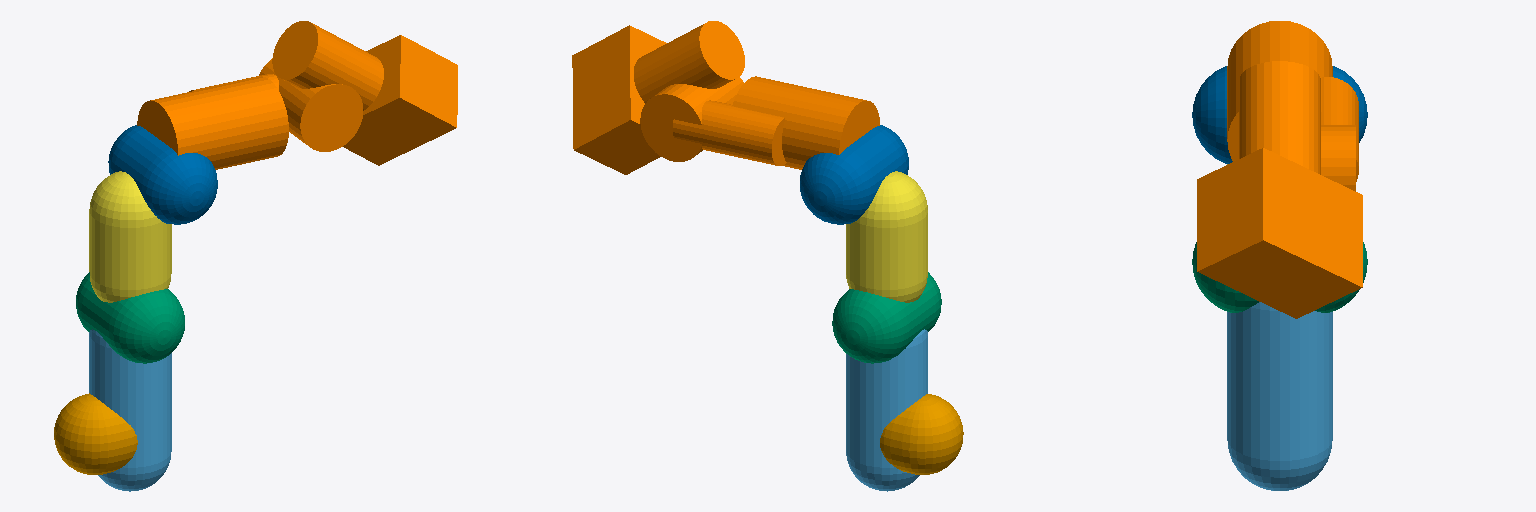
URDF robot description (fr3):
<?xml version="1.0" ?>
<!-- =================================================================================== -->
<!-- |    This document was autogenerated by xacro from fr3.urdf.xacro                 | -->
<!-- |    EDITING THIS FILE BY HAND IS NOT RECOMMENDED                                 | -->
<!-- =================================================================================== -->
<robot name="fr3">
  <link name="fr3_link0">
    <visual>
      <origin rpy="0 1.5707963267948966 0" xyz="-0.075 0 0.06"/>
      <geometry>
        <cylinder length="0.03" radius="0.09"/>
      </geometry>
    </visual>
    <visual>
      <origin xyz="-0.06 0 0.06"/>
      <geometry>
        <sphere radius="0.09"/>
      </geometry>
    </visual>
    <visual>
      <origin xyz="-0.09 0 0.06"/>
      <geometry>
        <sphere radius="0.09"/>
      </geometry>
    </visual>

    <collision>
      <origin rpy="0 1.5707963267948966 0" xyz="-0.075 0 0.06"/>
      <geometry>
        <cylinder length="0.03" radius="0.09"/>
      </geometry>
    </collision>
    <collision>
      <origin xyz="-0.06 0 0.06"/>
      <geometry>
        <sphere radius="0.09"/>
      </geometry>
    </collision>
    <collision>
      <origin xyz="-0.09 0 0.06"/>
      <geometry>
        <sphere radius="0.09"/>
      </geometry>
    </collision>

    <inertial>
      <origin rpy="0 0 0" xyz="-0.041018 -0.00014 0.049974"/>
      <mass value="0.629769"/>
      <inertia ixx="0.00315" ixy="8.2904e-07" ixz="0.00015" iyy="0.00388" iyz="8.2299e-06" izz="0.004285"/>
    </inertial>
  </link>
  
  <link name="fr3_link1">
    <visual>
      <origin rpy="0 0 0" xyz="0 0 -0.1915"/>
      <geometry>
        <cylinder length="0.283" radius="0.09"/>
      </geometry>
    </visual>
    <visual>
      <origin xyz="0 0 -0.05000000000000002"/>
      <geometry>
        <sphere radius="0.09"/>
      </geometry>
    </visual>
    <visual>
      <origin xyz="0 0 -0.33299999999999996"/>
      <geometry>
        <sphere radius="0.09"/>
      </geometry>
    </visual>

    <collision>
      <origin rpy="0 0 0" xyz="0 0 -0.1915"/>
      <geometry>
        <cylinder length="0.283" radius="0.09"/>
      </geometry>
    </collision>
    <collision>
      <origin xyz="0 0 -0.05000000000000002"/>
      <geometry>
        <sphere radius="0.09"/>
      </geometry>
    </collision>
    <collision>
      <origin xyz="0 0 -0.33299999999999996"/>
      <geometry>
        <sphere radius="0.09"/>
      </geometry>
    </collision>

    <inertial>
      <origin rpy="0 0 0" xyz="0.003875 0.002081 -0.04762"/>
      <mass value="4.970684"/>
      <inertia ixx="0.70337" ixy="-0.000139" ixz="0.006772" iyy="0.70661" iyz="0.019169" izz="0.009117"/>
    </inertial>
  </link>

  <joint name="fr3_joint1" type="revolute">
    <origin rpy="0 0 0" xyz="0 0 0.333"/>
    <parent link="fr3_link0"/>
    <child link="fr3_link1"/>
    <axis xyz="0 0 1"/>
    <limit effort="87.0" lower="-2.3093" upper="2.3093" velocity="2.0"/>
    <safety_controller k_position="100.0" k_velocity="40.0" soft_lower_limit="-2.3093" soft_upper_limit="2.3093"/>
    <dynamics D="1" K="7000" damping="0.003" friction="0.0" mu_coulomb="0" mu_viscous="16"/>
  </joint>

  <link name="fr3_link2">
    <visual>
      <origin rpy="0 0 0" xyz="0 0 0"/>
      <geometry>
        <cylinder length="0.12" radius="0.09"/>
      </geometry>
    </visual>
    <visual>
      <origin xyz="0 0 0.06"/>
      <geometry>
        <sphere radius="0.09"/>
      </geometry>
    </visual>
    <visual>
      <origin xyz="0 0 -0.06"/>
      <geometry>
        <sphere radius="0.09"/>
      </geometry>
    </visual>

    <collision>
      <origin rpy="0 0 0" xyz="0 0 0"/>
      <geometry>
        <cylinder length="0.12" radius="0.09"/>
      </geometry>
    </collision>
    <collision>
      <origin xyz="0 0 0.06"/>
      <geometry>
        <sphere radius="0.09"/>
      </geometry>
    </collision>
    <collision>
      <origin xyz="0 0 -0.06"/>
      <geometry>
        <sphere radius="0.09"/>
      </geometry>
    </collision>

    <inertial>
      <origin rpy="0 0 0" xyz="-0.003141 -0.02872  0.003495"/>
      <mass value="0.646926"/>
      <inertia ixx="0.007962" ixy="-0.003925" ixz="0.010254" iyy="0.02811" iyz="0.000704" izz="0.025995"/>
    </inertial>
  </link>

  <joint name="fr3_joint2" type="revolute">
    <origin rpy="-1.5707963267948966 0 0" xyz="0 0 0"/>
    <parent link="fr3_link1"/>
    <child link="fr3_link2"/>
    <axis xyz="0 0 1"/>
    <limit effort="87.0" lower="-1.5133" upper="1.5133" velocity="1.0"/>
    <safety_controller k_position="100.0" k_velocity="40.0" soft_lower_limit="-1.5133" soft_upper_limit="1.5133"/>
    <dynamics D="1" K="7000" damping="0.003" friction="0.0" mu_coulomb="0" mu_viscous="16"/>
  </joint>

  <link name="fr3_link3">
    <visual>
      <origin rpy="0 0 0" xyz="0 0 -0.145"/>
      <geometry>
        <cylinder length="0.15" radius="0.09"/>
      </geometry>
    </visual>
    <visual>
      <origin xyz="0 0 -0.06999999999999999"/>
      <geometry>
        <sphere radius="0.09"/>
      </geometry>
    </visual>
    <visual>
      <origin xyz="0 0 -0.21999999999999997"/>
      <geometry>
        <sphere radius="0.09"/>
      </geometry>
    </visual>

    <collision>
      <origin rpy="0 0 0" xyz="0 0 -0.145"/>
      <geometry>
        <cylinder length="0.15" radius="0.09"/>
      </geometry>
    </collision>
    <collision>
      <origin xyz="0 0 -0.06999999999999999"/>
      <geometry>
        <sphere radius="0.09"/>
      </geometry>
    </collision>
    <collision>
      <origin xyz="0 0 -0.21999999999999997"/>
      <geometry>
        <sphere radius="0.09"/>
      </geometry>
    </collision>

    <inertial>
      <origin rpy="0 0 0" xyz="2.7518e-02 3.9252e-02 -6.6502e-02"/>
      <mass value="3.228604"/>
      <inertia ixx="0.037242" ixy="-0.004761" ixz="-0.011396" iyy="0.036155" iyz="-0.012805" izz="0.01083"/>
    </inertial>
  </link>
  
  <joint name="fr3_joint3" type="revolute">
    <origin rpy="1.5707963267948966 0 0" xyz="0 -0.316 0"/>
    <parent link="fr3_link2"/>
    <child link="fr3_link3"/>
    <axis xyz="0 0 1"/>
    <limit effort="87.0" lower="-2.4937" upper="2.4937" velocity="1.5"/>
    <safety_controller k_position="100.0" k_velocity="40.0" soft_lower_limit="-2.4937" soft_upper_limit="2.4937"/>
    <dynamics D="1" K="7000" damping="0.003" friction="0.0" mu_coulomb="0" mu_viscous="16"/>
  </joint>

  <link name="fr3_link4">
    <visual>
      <origin rpy="0 0 0" xyz="0 0 0"/>
      <geometry>
        <cylinder length="0.12" radius="0.09"/>
      </geometry>
    </visual>
    <visual>
      <origin xyz="0 0 0.06"/>
      <geometry>
        <sphere radius="0.09"/>
      </geometry>
    </visual>
    <visual>
      <origin xyz="0 0 -0.06"/>
      <geometry>
        <sphere radius="0.09"/>
      </geometry>
    </visual>

    <collision>
      <origin rpy="0 0 0" xyz="0 0 0"/>
      <geometry>
        <cylinder length="0.12" radius="0.09"/>
      </geometry>
    </collision>
    <collision>
      <origin xyz="0 0 0.06"/>
      <geometry>
        <sphere radius="0.09"/>
      </geometry>
    </collision>
    <collision>
      <origin xyz="0 0 -0.06"/>
      <geometry>
        <sphere radius="0.09"/>
      </geometry>
    </collision>

    <inertial>
      <origin rpy="0 0 0" xyz="-5.317e-02 1.04419e-01 2.7454e-02"/>
      <mass value="3.587895"/>
      <inertia ixx="0.025853" ixy="0.007796" ixz="-0.001332" iyy="0.019552" iyz="0.008641" izz="0.028323"/>
    </inertial>
  </link>
  
  <joint name="fr3_joint4" type="revolute">
    <origin rpy="1.5707963267948966 0 0" xyz="0.0825 0 0"/>
    <parent link="fr3_link3"/>
    <child link="fr3_link4"/>
    <axis xyz="0 0 1"/>
    <limit effort="87.0" lower="-2.7478" upper="-0.4461" velocity="1.25"/>
    <safety_controller k_position="100.0" k_velocity="40.0" soft_lower_limit="-2.7478" soft_upper_limit="-0.4461"/>
    <dynamics D="1" K="7000" damping="0.003" friction="0.0" mu_coulomb="0" mu_viscous="16"/>
  </joint>

  <link name="fr3_link5">
    <visual>
      <origin rpy="0 0 0" xyz="0 0 -0.26"/>
      <geometry>
        <cylinder length="0.28" radius="0.09"/>
      </geometry>
      <material name="darkorange">
        <color rgba="1. 0.549 0. 0.8"/>
      </material>
    </visual>

    <visual>
      <origin rpy="0 0 0.08" xyz="0 0.08 -0.13"/>
      <geometry>
        <cylinder length="0.25" radius="0.055"/>
      </geometry>
      <material name="darkorange">
        <color rgba="1. 0.549 0. 0.8"/>
      </material>
    </visual>

    <collision>
      <origin rpy="0 0 0" xyz="0 0 -0.26"/>
      <geometry>
        <cylinder length="0.28" radius="0.09"/>
      </geometry>
    </collision>
    
    <collision>
      <origin rpy="0 0 0.08" xyz="0 0.08 -0.13"/>
      <geometry>
        <cylinder length="0.25" radius="0.055"/>
      </geometry>
    </collision>

    <inertial>
      <origin rpy="0 0 0" xyz="-1.1953e-02 4.1065e-02 -3.8437e-02"/>
      <mass value="1.225946"/>
      <inertia ixx="0.035549" ixy="-0.002117" ixz="-0.004037" iyy="0.029474" iyz="0.000229" izz="0.008627"/>
    </inertial>
  </link>

  <joint name="fr3_joint5" type="revolute">
    <origin rpy="-1.5707963267948966 0 0" xyz="-0.0825 0.384 0"/>
    <parent link="fr3_link4"/>
    <child link="fr3_link5"/>
    <axis xyz="0 0 1"/>
    <limit effort="12.0" lower="-2.48" upper="2.48" velocity="3.0"/>
    <safety_controller k_position="100.0" k_velocity="40.0" soft_lower_limit="-2.48" soft_upper_limit="2.48"/>
    <dynamics D="1" K="7000" damping="0.003" friction="0.0" mu_coulomb="0" mu_viscous="16"/>
  </joint>

  <link name="fr3_link6">
    <visual>
      <origin rpy="0 0 0" xyz="0 0 -0.03"/>
      <geometry>
        <cylinder length="0.20" radius="0.08"/>
      </geometry>
      <material name="darkorange">
        <color rgba="1. 0.549 0. 0.8"/>
      </material>
    </visual>

    <collision>
      <origin rpy="0 0 0" xyz="0 0 -0.03"/>
      <geometry>
        <cylinder length="0.20" radius="0.08"/>
      </geometry>
    </collision>

    <inertial>
      <origin rpy="0 0 0" xyz="6.0149e-02 -1.4117e-02 -1.0517e-02"/>
      <mass value="1.666555"/>
      <inertia ixx="0.001964" ixy="0.000109" ixz="-0.001158" iyy="0.004354" iyz="0.000341" izz="0.005433"/>
    </inertial>
  </link>

  <joint name="fr3_joint6" type="revolute">
    <origin rpy="1.5707963267948966 0 0" xyz="0 0 0"/>
    <parent link="fr3_link5"/>
    <child link="fr3_link6"/>
    <axis xyz="0 0 1"/>
    <limit effort="12.0" lower="0.8521" upper="4.2094" velocity="1.5"/>
    <safety_controller k_position="100.0" k_velocity="40.0" soft_lower_limit="0.8521" soft_upper_limit="4.2094"/>
    <dynamics D="1" K="7000" damping="0.003" friction="0.0" mu_coulomb="0" mu_viscous="16"/>
  </joint>

  <link name="fr3_link7">
    <visual>
      <origin rpy="0 0 0" xyz="0 0 0.01"/>
      <geometry>
        <cylinder length="0.28" radius="0.07"/>
      </geometry>
      <material name="darkorange">
        <color rgba="1. 0.549 0. 0.8"/>
      </material>
    </visual>

    <collision>
      <origin rpy="0 0 0" xyz="0 0 0.01"/>
      <geometry>
        <cylinder length="0.28" radius="0.07"/>
      </geometry>
    </collision>

    <inertial>
      <origin rpy="0 0 0" xyz="1.0517e-02 -4.252e-03 6.1597e-02"/>
      <mass value="0.735522"/>
      <inertia ixx="0.012516" ixy="-0.000428" ixz="-0.001196" iyy="0.010027" iyz="-0.000741" izz="0.004815"/>
    </inertial>
  </link>

  <joint name="fr3_joint7" type="revolute">
    <origin rpy="1.5707963267948966 0 0" xyz="0.088 0 0"/>
    <parent link="fr3_link6"/>
    <child link="fr3_link7"/>
    <axis xyz="0 0 1"/>
    <limit effort="12.0" lower="-2.6895" upper="2.6895" velocity="3.0"/>
    <safety_controller k_position="100.0" k_velocity="40.0" soft_lower_limit="-2.6895" soft_upper_limit="2.6895"/>
    <dynamics D="1" K="7000" damping="0.003" friction="0.0" mu_coulomb="0" mu_viscous="16"/>
  </joint>

  <link name="fr3_link8">
    <inertial>
        <origin rpy="0 0 0" xyz="0 0 0"/>
        <mass value="1e-5"/>
        <inertia ixx="1e-6" ixy="0" ixz="0" iyy="1e-6" iyz="0" izz="1e-6"/>
    </inertial>
  </link>

  <joint name="fr3_joint8" type="fixed">
    <origin rpy="0 0 0" xyz="0 0 0.107"/>
    <parent link="fr3_link7"/>
    <child link="fr3_link8"/>
  </joint>

  <joint name="fr3_hand_joint" type="fixed">
    <parent link="fr3_link8"/>
    <child link="fr3_hand"/>
    <origin rpy="0 0 -0.7853981633974483" xyz="0 0 0"/>
  </joint>

  <link name="fr3_hand">
    <visual>
      <origin rpy="0 0 0" xyz="0 0 0.06"/>
      <geometry>
        <box size="0.16 0.24 0.18"/>
      </geometry>
      <material name="darkorange">
        <color rgba="1. 0.549 0. 0.8"/>
      </material>
    </visual>

    <collision>
      <origin rpy="0 0 0" xyz="0 0 0.06"/>
      <geometry>
        <box size="0.14 0.24 0.18"/>
      </geometry>
    </collision>

    <inertial>
      <origin rpy="0 0 0" xyz="-0.01 0 0.03"/>
      <mass value="0.73"/>
      <inertia ixx="0.001" ixy="0" ixz="0" iyy="0.0025" iyz="0" izz="0.0017"/>
    </inertial>
  </link>

  <!-- Define the hand_tcp frame -->
  <link name="fr3_hand_tcp">
    <inertial>
      <origin rpy="0 0 0" xyz="0 0 0"/>
      <mass value="1e-5"/>
      <inertia ixx="1e-6" ixy="0" ixz="0" iyy="1e-6" iyz="0" izz="1e-6"/>
    </inertial>
  </link>

  <joint name="fr3_hand_tcp_joint" type="fixed">
    <origin rpy="0 0 0" xyz="0 0 0.1034"/>
    <parent link="fr3_hand"/>
    <child link="fr3_hand_tcp"/>
  </joint>
  
  <link name="fr3_leftfinger">
    <inertial>
      <origin rpy="0 0 0" xyz="0 0 0"/>
      <mass value="0.015"/>
      <inertia ixx="2.3749999999999997e-06" ixy="0" ixz="0" iyy="2.3749999999999997e-06" iyz="0" izz="7.5e-07"/>
    </inertial>
  </link>

  <link name="fr3_rightfinger">
    <inertial>
      <origin rpy="0 0 0" xyz="0 0 0"/>
      <mass value="0.015"/>
      <inertia ixx="2.3749999999999997e-06" ixy="0" ixz="0" iyy="2.3749999999999997e-06" iyz="0" izz="7.5e-07"/>
    </inertial>
  </link>

  <joint name="fr3_finger_joint1" type="prismatic">
    <parent link="fr3_hand"/>
    <child link="fr3_leftfinger"/>
    <origin rpy="0 0 0" xyz="0 0 0.0584"/>
    <axis xyz="0 1 0"/>
    <limit effort="100" lower="0.0" upper="0.04" velocity="0.2"/>
    <dynamics damping="0.3"/>
  </joint>

  <joint name="fr3_finger_joint2" type="prismatic">
    <parent link="fr3_hand"/>
    <child link="fr3_rightfinger"/>
    <origin rpy="0 0 0" xyz="0 0 0.0584"/>
    <axis xyz="0 -1 0"/>
    <limit effort="100" lower="0.0" upper="0.04" velocity="0.2"/>
    <mimic joint="fr3_finger_joint1"/>
    <dynamics damping="0.3"/>
  </joint>
</robot>

--- What the picture shows (computed from the rendered views, not written in the file) ---
Views: 3 orthographic renders of the robot side by side, from view 1: azimuth 30°, elevation 25°; view 2: azimuth 150°, elevation 25°; view 3: azimuth 270°, elevation 25°.
Model fr3 with 13 links and 12 joints (7 revolute, 2 prismatic, 3 fixed), rooted at fr3_link0, posed all joints at 0 but 2 set to mid-range because 0 is outside their limits (fr3_joint4 = -1.6, fr3_joint6 = 2.53).
Links seen in each view (by area): view 1: fr3_link5, fr3_hand, fr3_link3, fr3_link1, fr3_link4, fr3_link2, fr3_link7, fr3_link0, fr3_link6; view 2: fr3_link5, fr3_hand, fr3_link3, fr3_link1, fr3_link4, fr3_link2, fr3_link7, fr3_link0, fr3_link6; view 3: fr3_hand, fr3_link1, fr3_link7, fr3_link5, fr3_link4, fr3_link6, fr3_link2.
Link boxes in pixels (<box>): fr3_link5: <box>137,74,288,169</box>; fr3_hand: <box>343,35,457,165</box>; fr3_link3: <box>89,171,171,302</box>; fr3_link1: <box>89,329,171,491</box>; fr3_link4: <box>108,125,217,224</box>; fr3_link2: <box>76,272,184,363</box>; fr3_link7: <box>272,21,383,110</box>; fr3_link0: <box>54,393,137,474</box>; fr3_link6: <box>259,58,362,151</box>; fr3_link5: <box>673,76,879,169</box>; fr3_hand: <box>572,25,666,174</box>; fr3_link3: <box>846,171,927,302</box>; fr3_link1: <box>846,329,927,491</box>; fr3_link4: <box>800,125,908,224</box>; fr3_link2: <box>832,272,941,363</box>; fr3_link7: <box>634,21,744,103</box>; fr3_link0: <box>880,394,963,474</box>; fr3_link6: <box>640,77,743,161</box>; fr3_hand: <box>1197,148,1362,318</box>; fr3_link1: <box>1227,302,1332,490</box>; fr3_link7: <box>1239,61,1320,174</box>; fr3_link5: <box>1227,21,1358,181</box>; fr3_link4: <box>1192,66,1367,163</box>; fr3_link6: <box>1321,125,1355,191</box>; fr3_link2: <box>1192,242,1367,312</box>.
Bounding box of the posed robot: 0.9916 × 0.3 × 1.02 m (x, y, z).
Geometry: primitives only (box / cylinder / sphere), no mesh files.